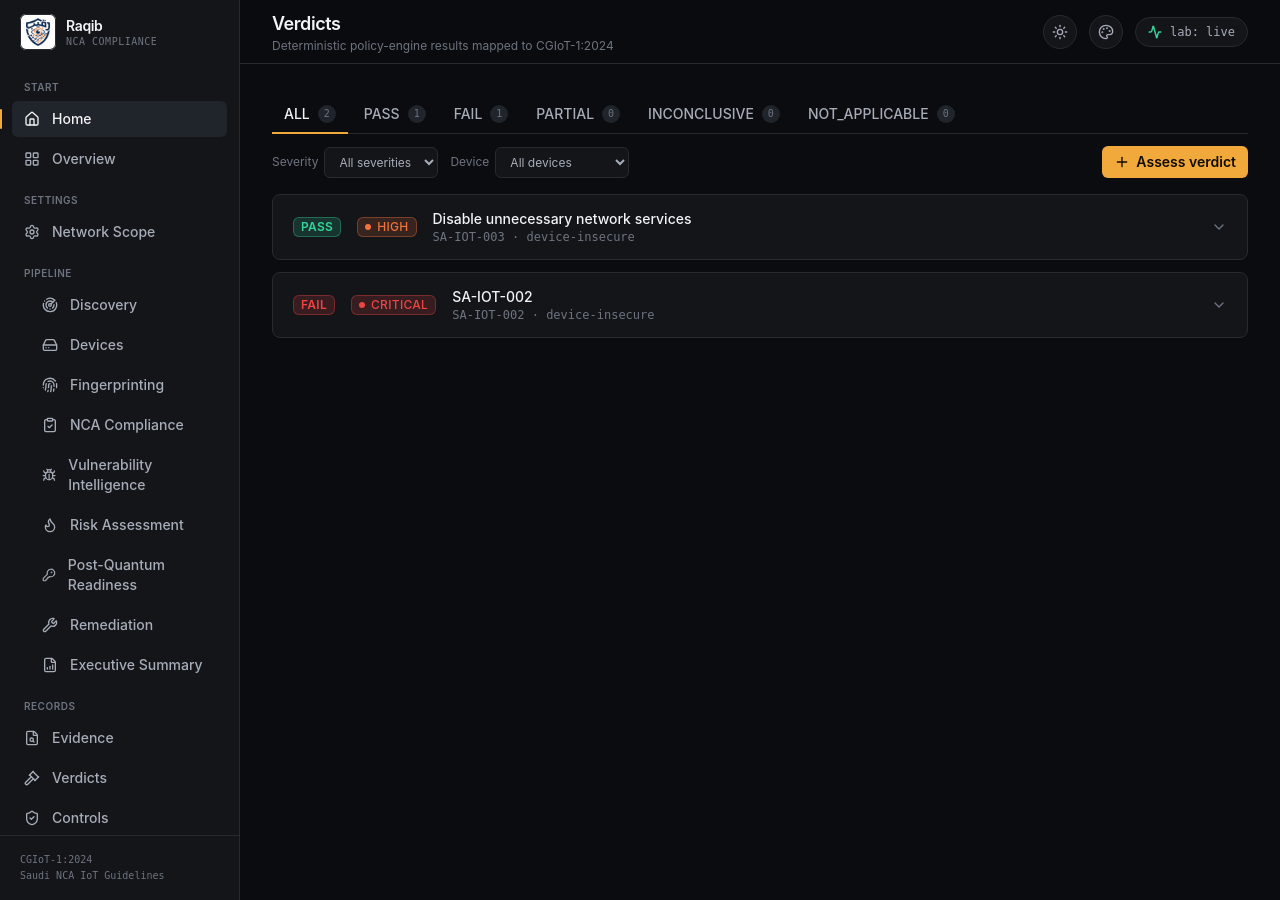
VerdictsPage › filters verdicts by status
Expected: the text "Disable unnecessary network services" is shown, top-left (432, 210), bottom-right (692, 227)
What coordinates should you click on to do the following:
click the tab "PASS 1"
I would click on:
 (395, 115)
Its box is top-left (352, 96), bottom-right (438, 134).
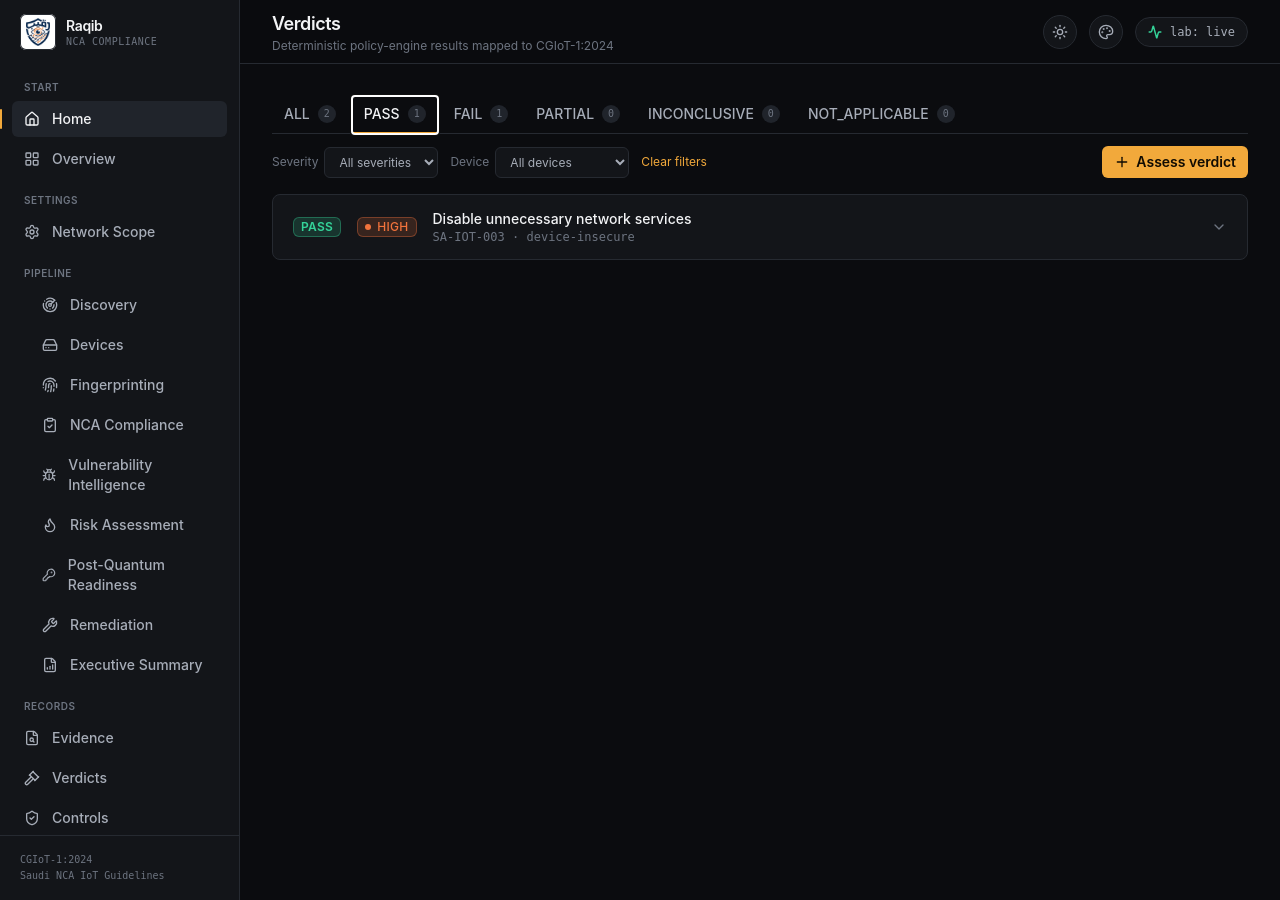
Result: the button "SA-IOT-002" is gone
